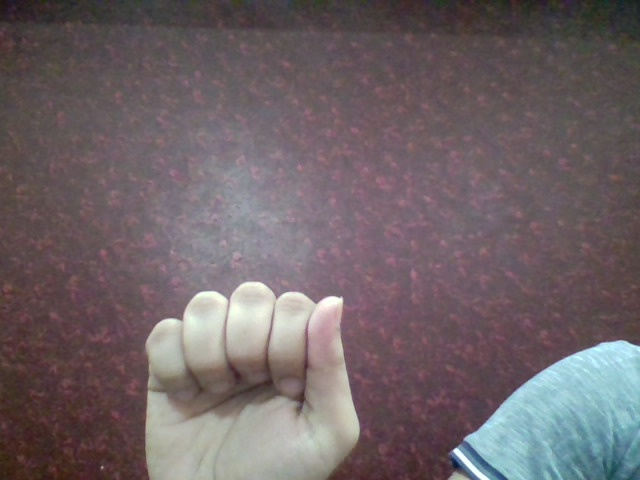a: (131, 271, 367, 477)
